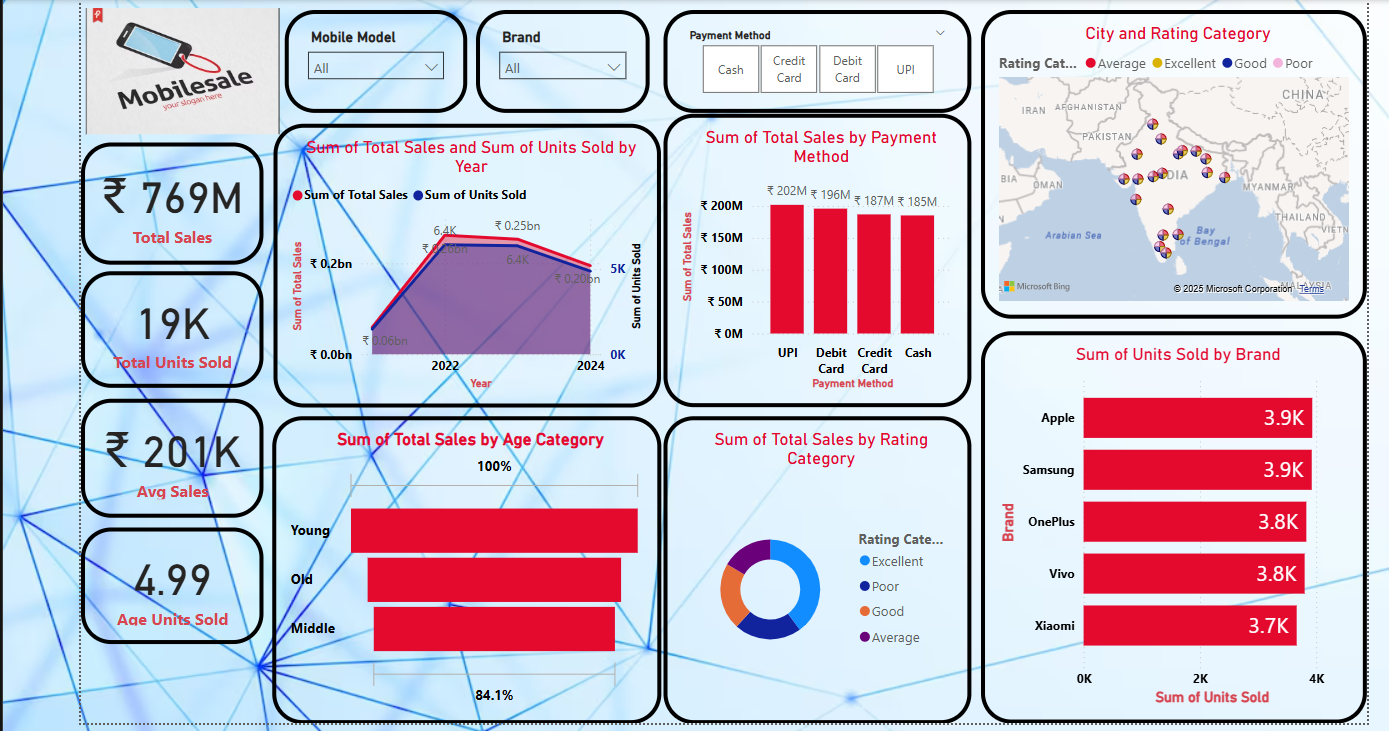

This screenshot's page, from the dashboard's own definition file:
{"tool":"powerbi","page":{"name":"DashBoard","canvas":[1280,720],"ordinal":0},"visuals":[{"type":"image","box":[0,0,202.8,141.8],"z":0},{"type":"card","fields":{"Values":["Measure Table.Total Sales"]},"box":[0,141.8,181.6,121.9],"z":1},{"type":"card","fields":{"Values":["Measure Table.Total Units Sold"]},"box":[0,269.9,181.6,115.7],"z":2},{"type":"card","fields":{"Values":["Measure Table.Avg Sales"]},"box":[0,396.8,181.6,118.2],"z":3},{"type":"card","fields":{"Values":["Measure Table.Age Units Sold"]},"box":[0,525,181.6,115.7],"z":4},{"type":"slicer","fields":{"Values":["Mobile Sales Data.Mobile Model"]},"box":[202.8,10,181.6,102],"z":5},{"type":"slicer","fields":{"Values":["Mobile Sales Data.Brand"]},"box":[393.1,10,172.9,102],"z":6},{"type":"slicer","fields":{"Values":["Mobile Sales Data.Payment Method"]},"box":[579.7,10,306,102],"z":7},{"type":"lineChart","fields":{"Y":["Sum(Mobile Sales Data.Total Sales)"],"Category":["Mobile Sales Data.Year","Mobile Sales Data.Month","Mobile Sales Data.Day"],"Y2":["Sum(Mobile Sales Data.Units Sold)"]},"box":[191.6,123.2,385.6,282.4],"z":8},{"type":"map","fields":{"Category":["Mobile Sales Data.City"],"Series":["Mobile Sales Data.Rating Category"]},"box":[895.7,10,384.4,307.3],"z":9},{"type":"clusteredColumnChart","fields":{"Category":["Mobile Sales Data.Payment Method"],"Y":["Sum(Mobile Sales Data.Total Sales)"]},"box":[579.7,113.2,306,292.3],"z":10},{"type":"clusteredBarChart","fields":{"Category":["Mobile Sales Data.Brand"],"Y":["Sum(Mobile Sales Data.Units Sold)"]},"box":[895.7,329.6,384.4,390.6],"z":11},{"type":"funnel","fields":{"Y":["Sum(Mobile Sales Data.Total Sales)"],"Category":["Mobile Sales Data.Age Category"]},"box":[190.3,414.2,386.9,306],"z":12},{"type":"donutChart","fields":{"Category":["Mobile Sales Data.Rating Category"],"Y":["Sum(Mobile Sales Data.Total Sales)"]},"box":[579.7,414.2,306,306],"z":13}]}

Visuals, with their boxes in screenshot pixels (x1, y1, x2, y2):
image: box=[80, 0, 283, 138]
card - Measure Table.Total Sales: box=[80, 138, 261, 260]
card - Measure Table.Total Units Sold: box=[80, 266, 261, 382]
card - Measure Table.Avg Sales: box=[80, 393, 261, 512]
card - Measure Table.Age Units Sold: box=[80, 522, 261, 638]
slicer - Mobile Sales Data.Mobile Model: box=[283, 6, 464, 108]
slicer - Mobile Sales Data.Brand: box=[473, 6, 646, 108]
slicer - Mobile Sales Data.Payment Method: box=[660, 6, 966, 108]
lineChart - Sum(Mobile Sales Data.Total Sales) x Mobile Sales Data.Year: box=[271, 120, 657, 402]
map - Mobile Sales Data.City x Mobile Sales Data.Rating Category: box=[976, 6, 1361, 314]
clusteredColumnChart - Mobile Sales Data.Payment Method x Sum(Mobile Sales Data.Total Sales): box=[660, 110, 966, 402]
clusteredBarChart - Mobile Sales Data.Brand x Sum(Mobile Sales Data.Units Sold): box=[976, 326, 1361, 717]
funnel - Sum(Mobile Sales Data.Total Sales) x Mobile Sales Data.Age Category: box=[270, 411, 657, 717]
donutChart - Mobile Sales Data.Rating Category x Sum(Mobile Sales Data.Total Sales): box=[660, 411, 966, 717]
